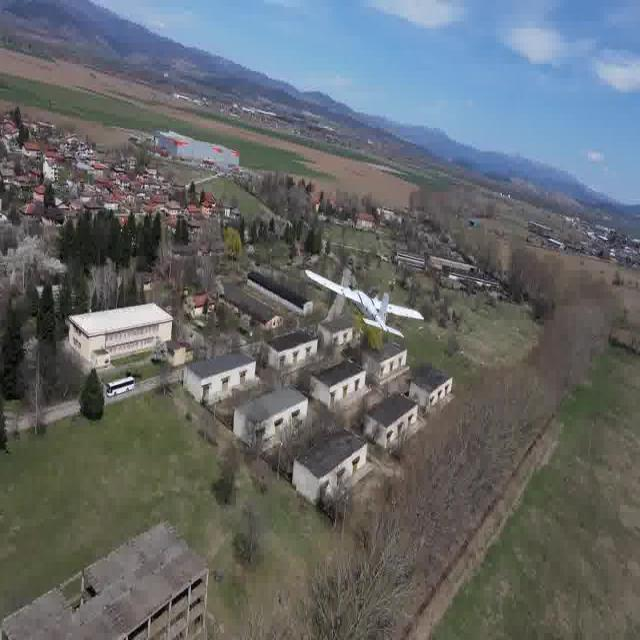iha: (335, 293, 395, 314)
